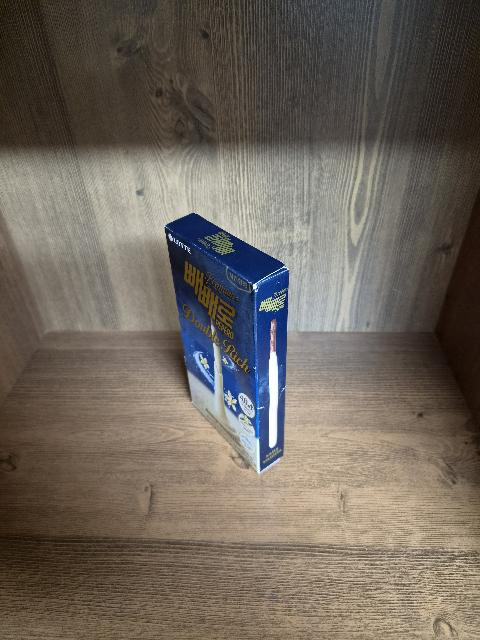pepero: (164, 212, 289, 475)
